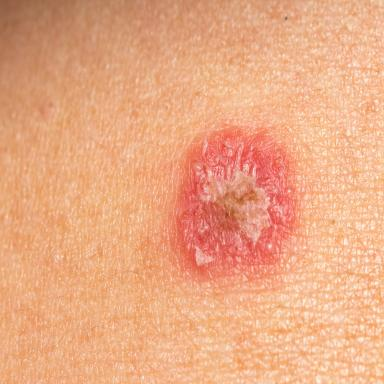Tinea-Corporis: (173, 123, 296, 275)
